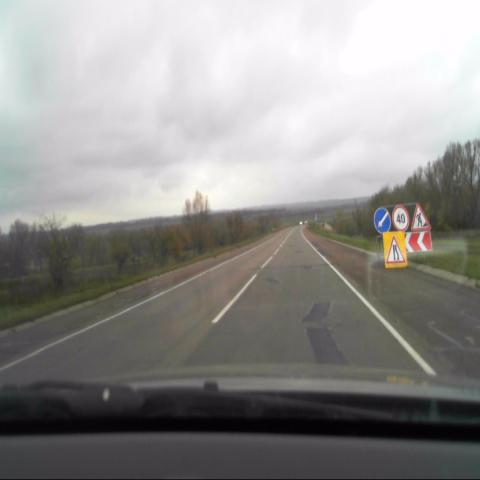4_2_2: (372, 206, 390, 232)
